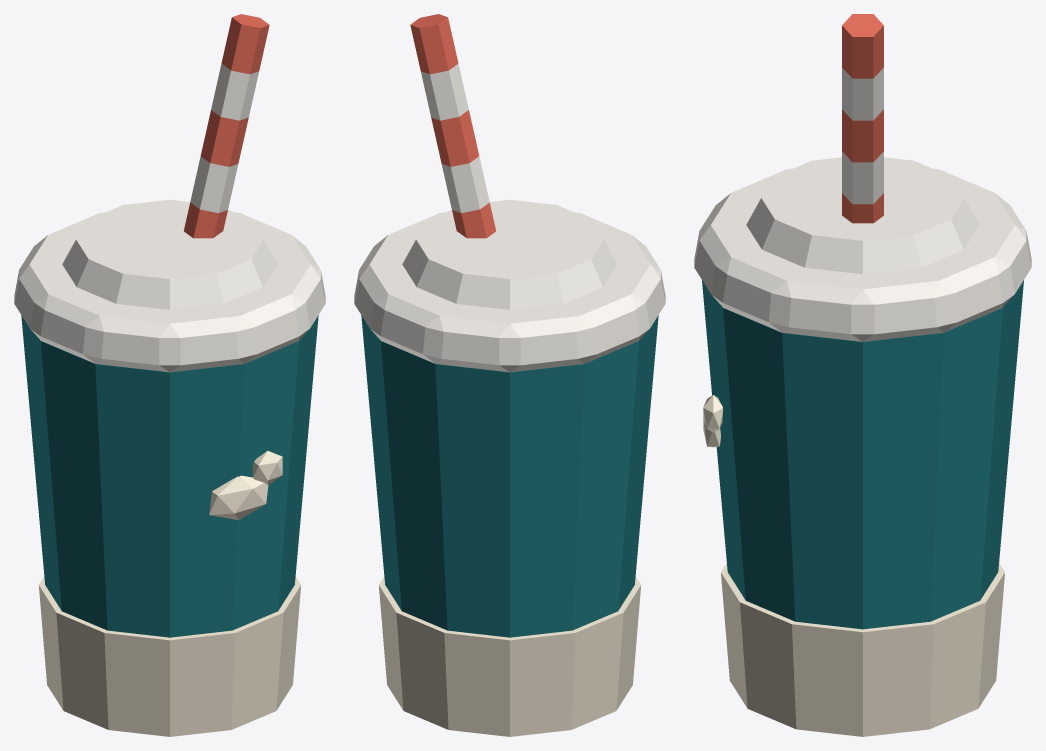
File: drink_cup.glb
3 renders of one model, left to right at view 1: azimuth 30°, elevation 25°; view 2: azimuth 150°, elevation 25°; view 3: azimuth 270°, elevation 25°, orthographic. The views are drawn at different scales.
Visible parts, largest first — view 1: drink_cup; view 2: drink_cup; view 3: drink_cup.
Part boxes in pixels (x1,y1,x2,y2): drink_cup: (14,14,325,736); drink_cup: (354,14,665,736); drink_cup: (694,14,1031,736).
Bounding box in the file's own units: 0.1126 × 0.2588 × 0.1126.
